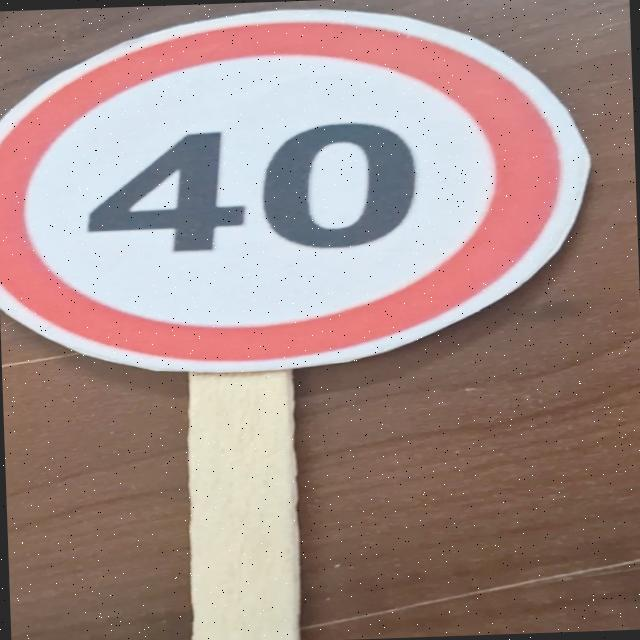Speed40: (0, 0, 601, 379)
